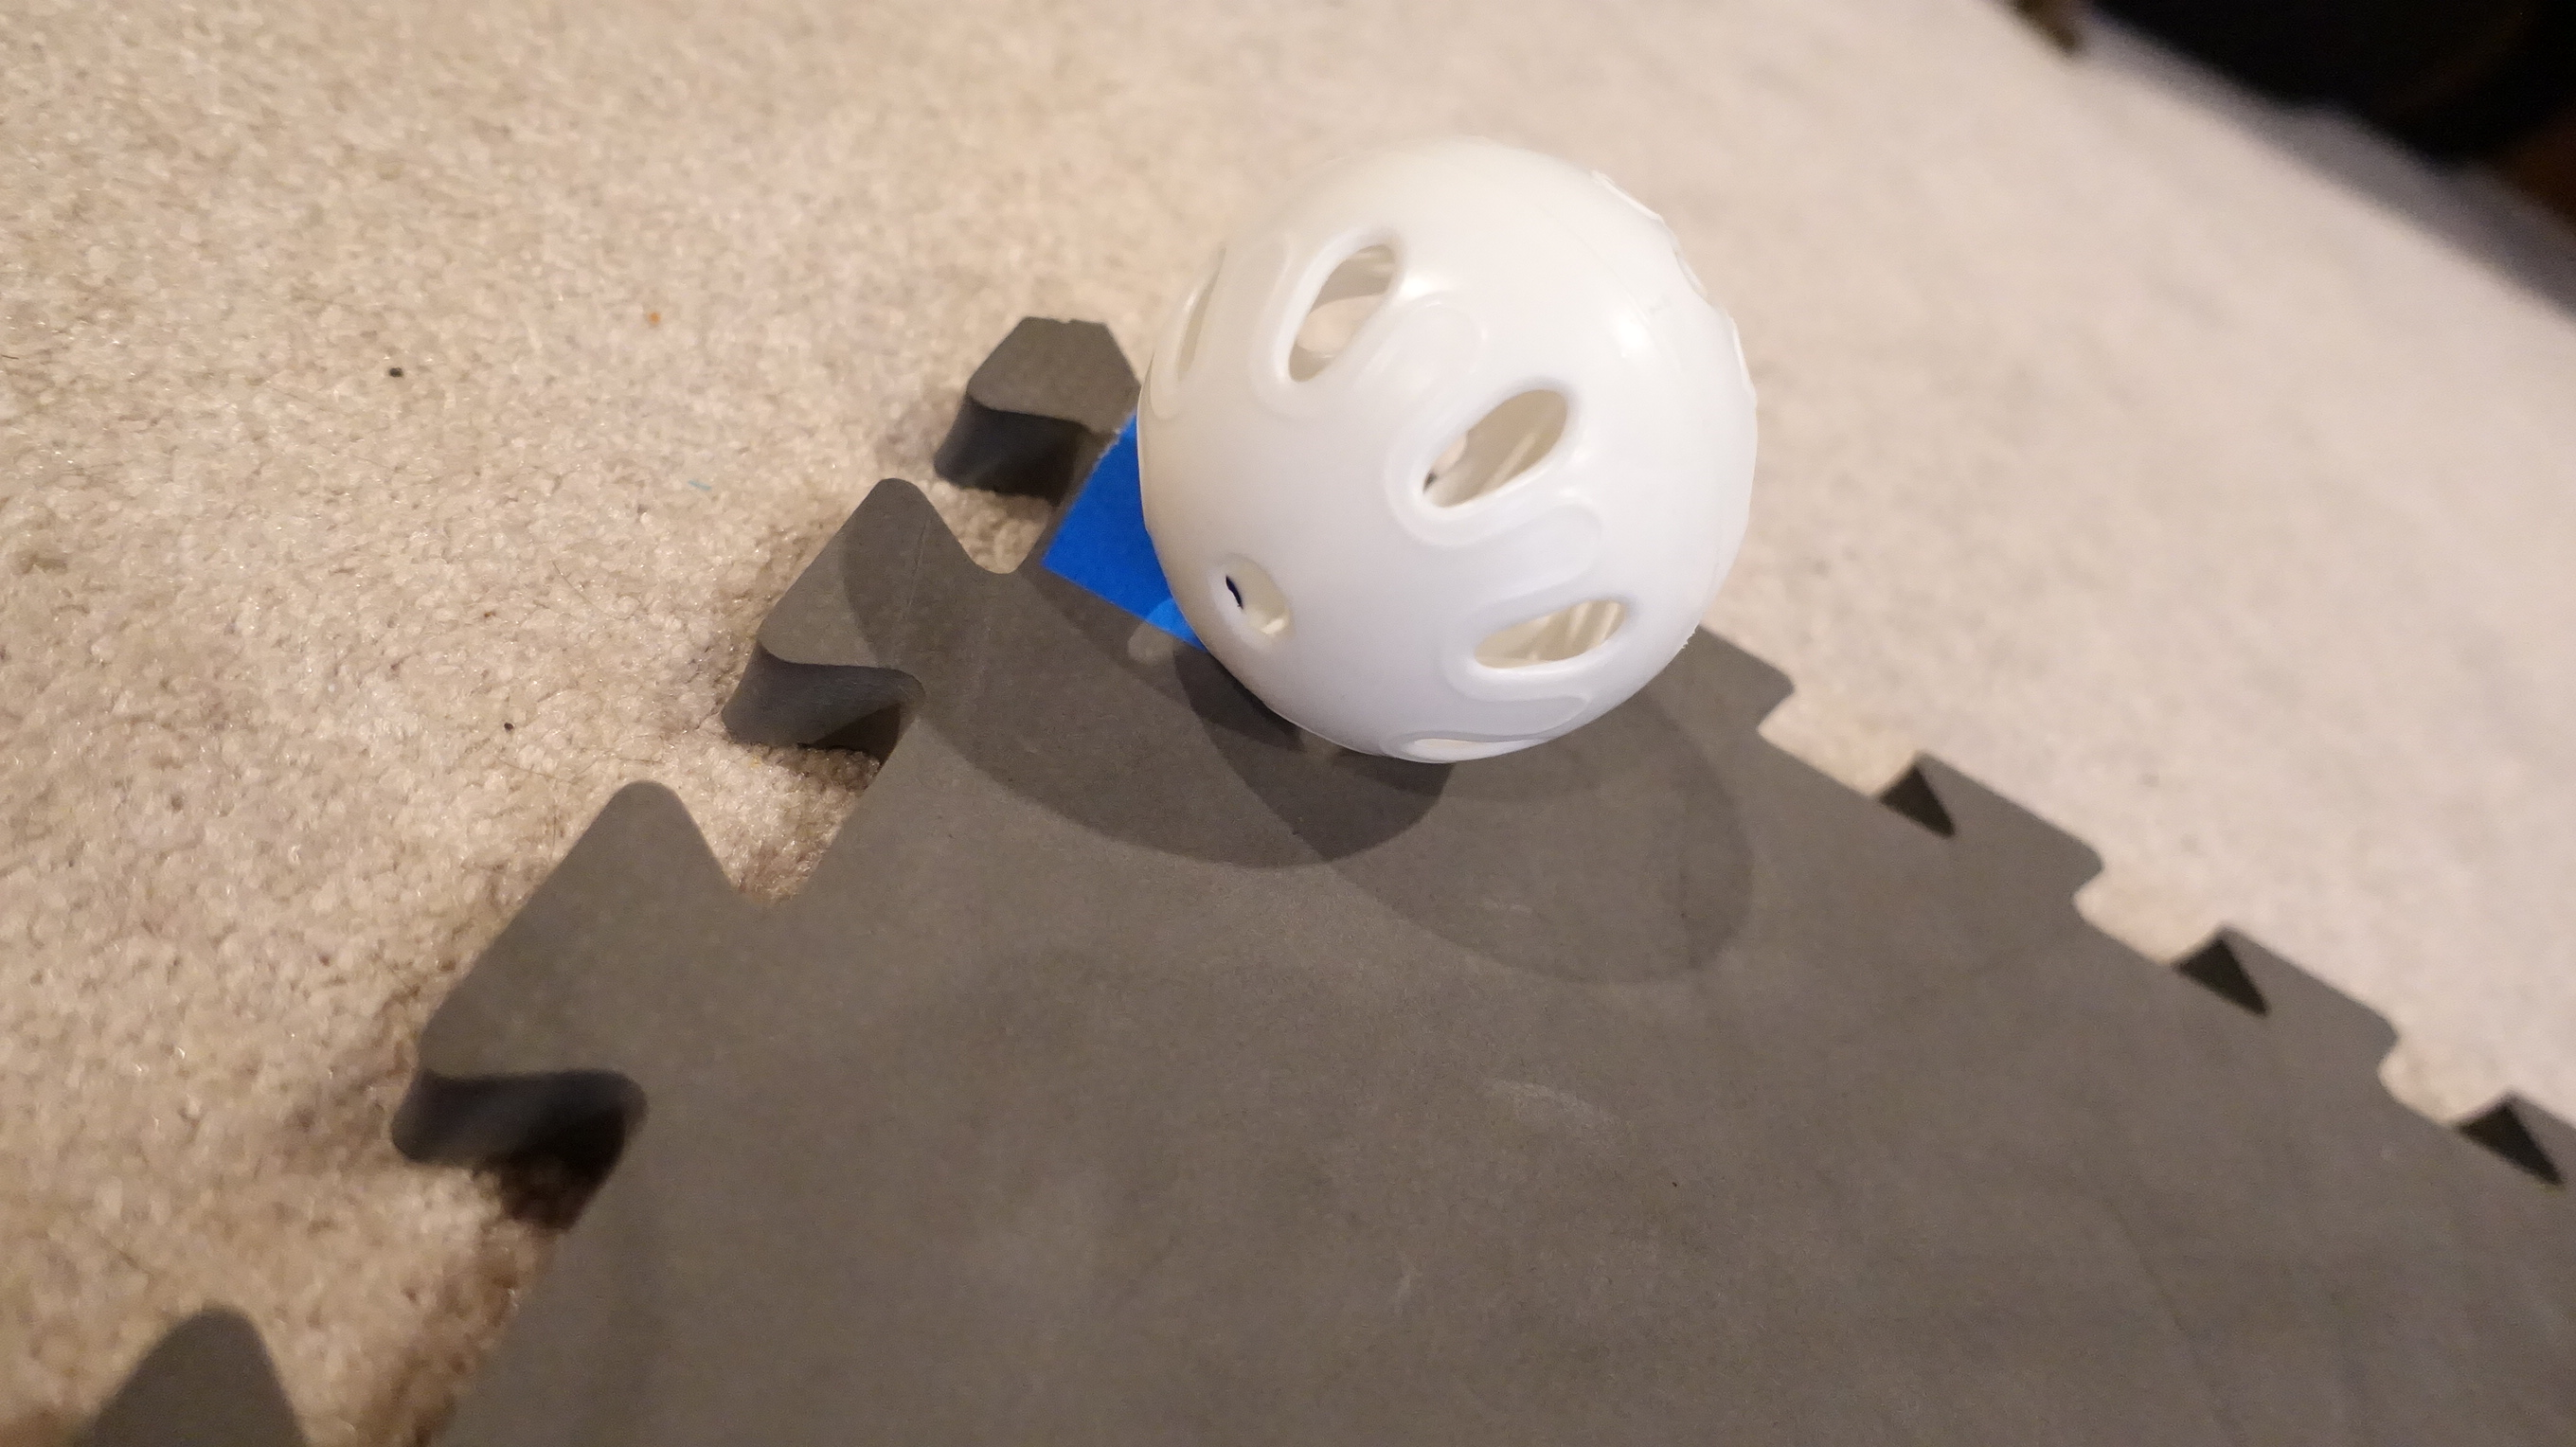silver: (1118, 129, 1759, 771)
